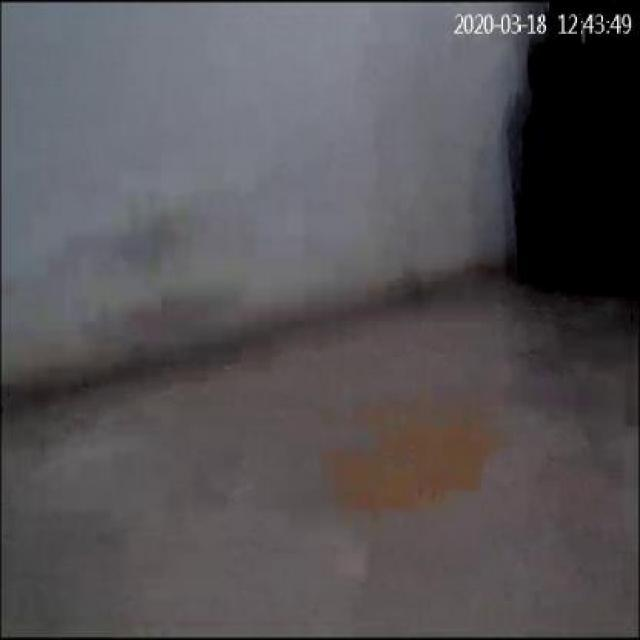spill: (322, 428, 510, 522)
